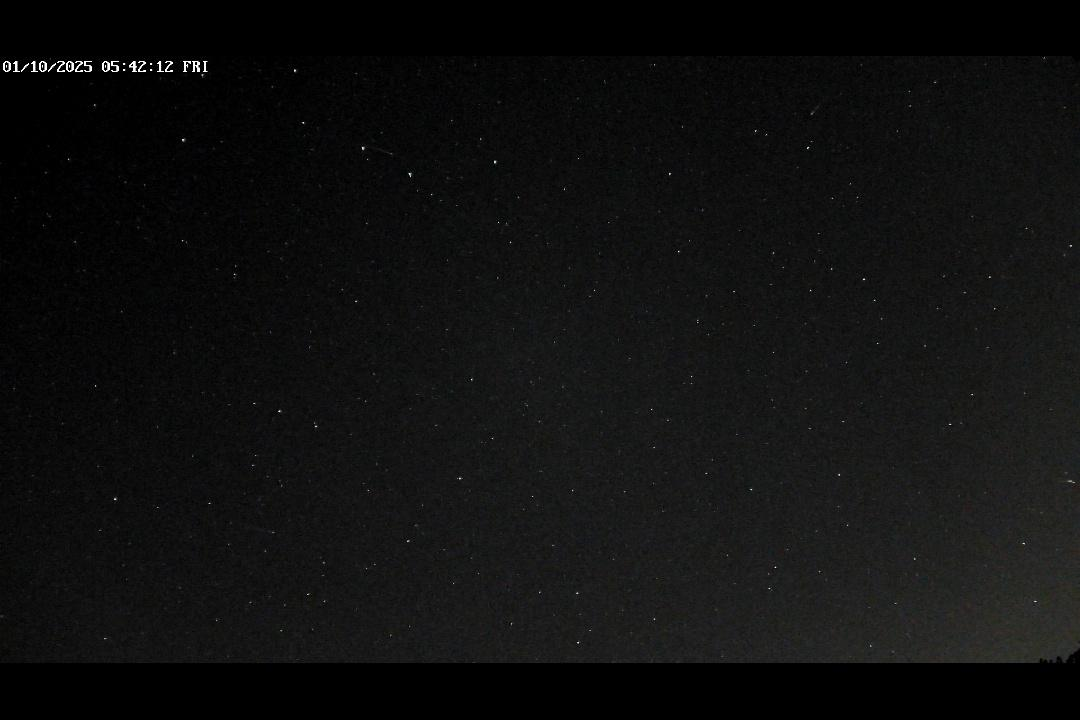Plane: (1049, 468, 1079, 494), (240, 523, 280, 538), (806, 99, 826, 116), (370, 147, 396, 156)
